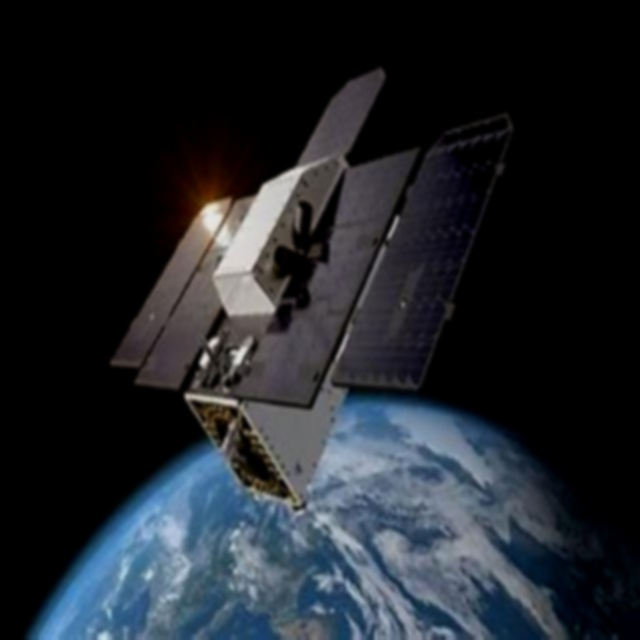medium_debris: (119, 165, 521, 513)
